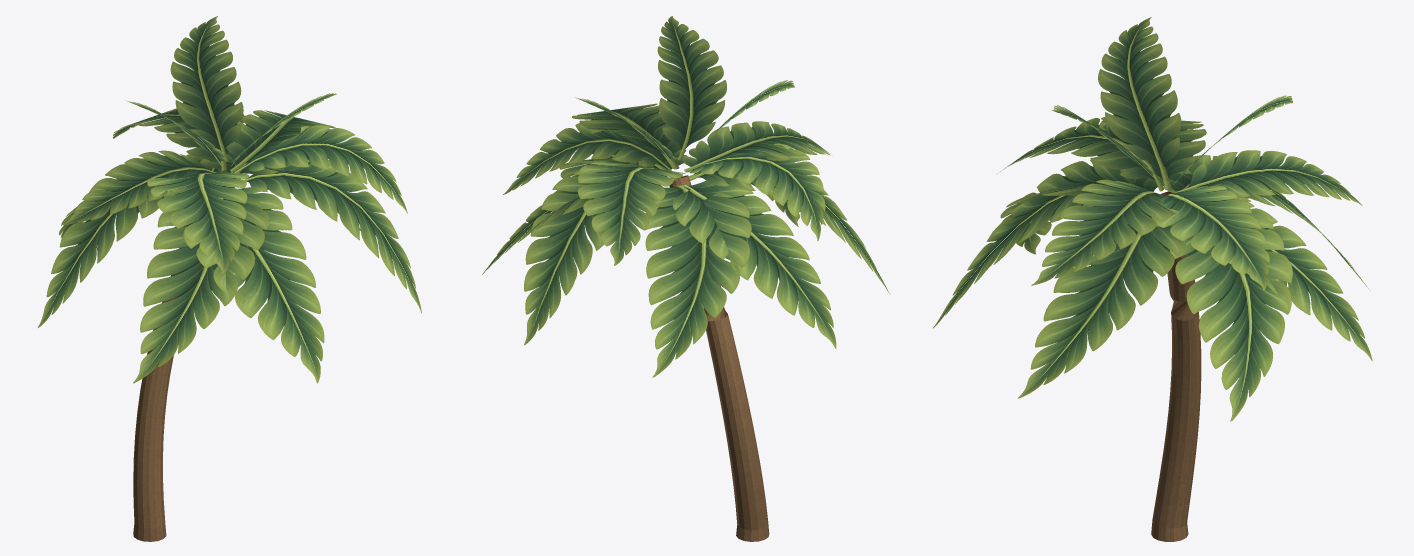
The model's file is palm2_a.glb.
3 renders of one model, left to right at view 1: azimuth 30°, elevation 25°; view 2: azimuth 150°, elevation 25°; view 3: azimuth 270°, elevation 25°, orthographic. The views are drawn at different scales.
Visible parts, largest first — view 1: palm2_a; view 2: palm2_a; view 3: palm2_a.
Part boxes in pixels (x1,y1,x2,y2): palm2_a: (37, 16, 421, 541); palm2_a: (482, 16, 889, 541); palm2_a: (933, 17, 1372, 541).
Size of the model in its own units: 3.81 by 4.43 by 3.81.
2 materials, 2 textured.
